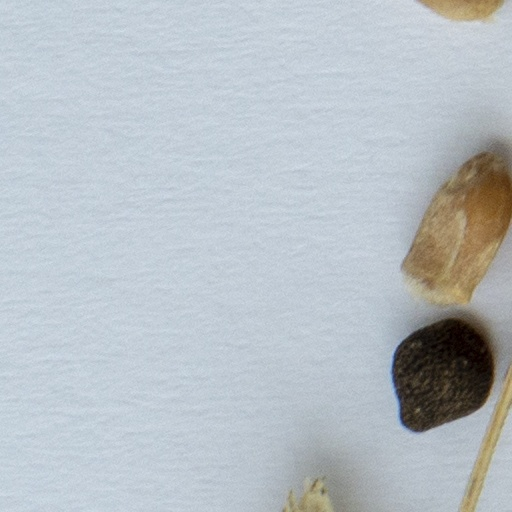Wheat-grain-damaged-poly: (399, 142, 511, 309)
